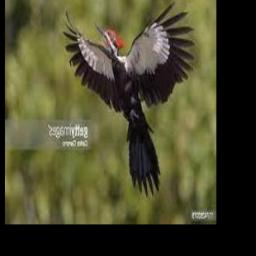Woodpecker: (63, 1, 194, 196)
